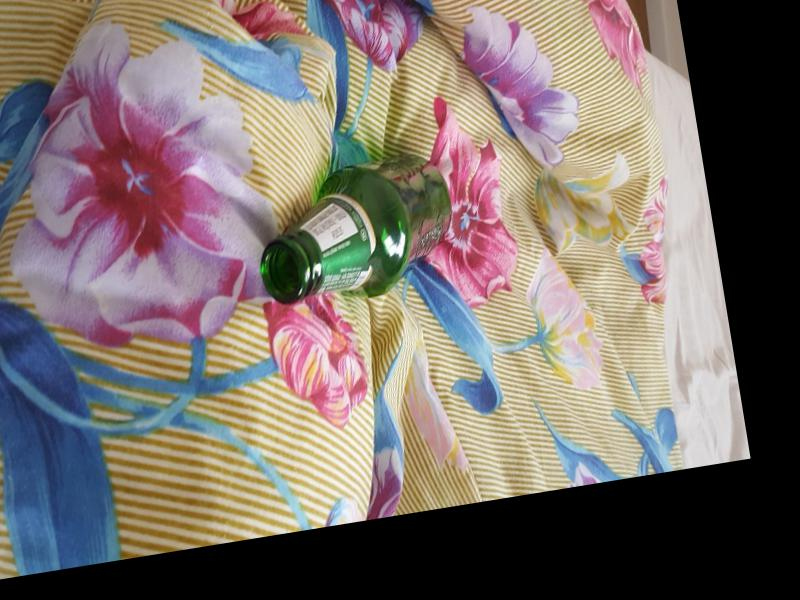Beer: (247, 155, 462, 313)
